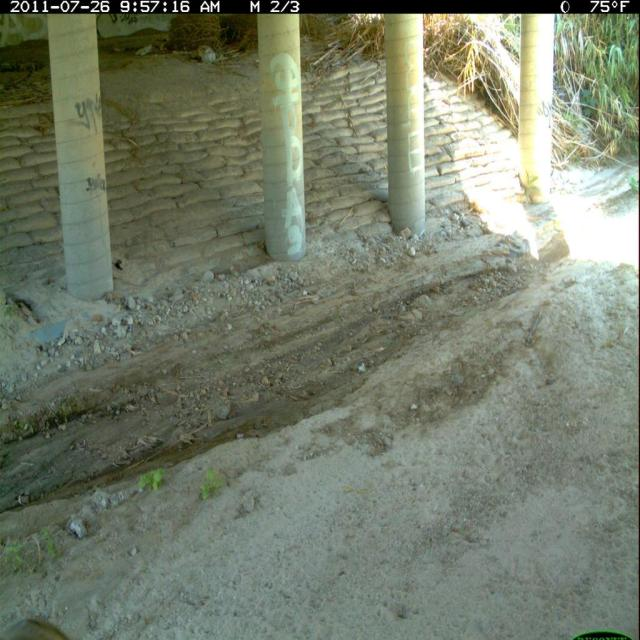bobcat: (2, 615, 82, 640)
